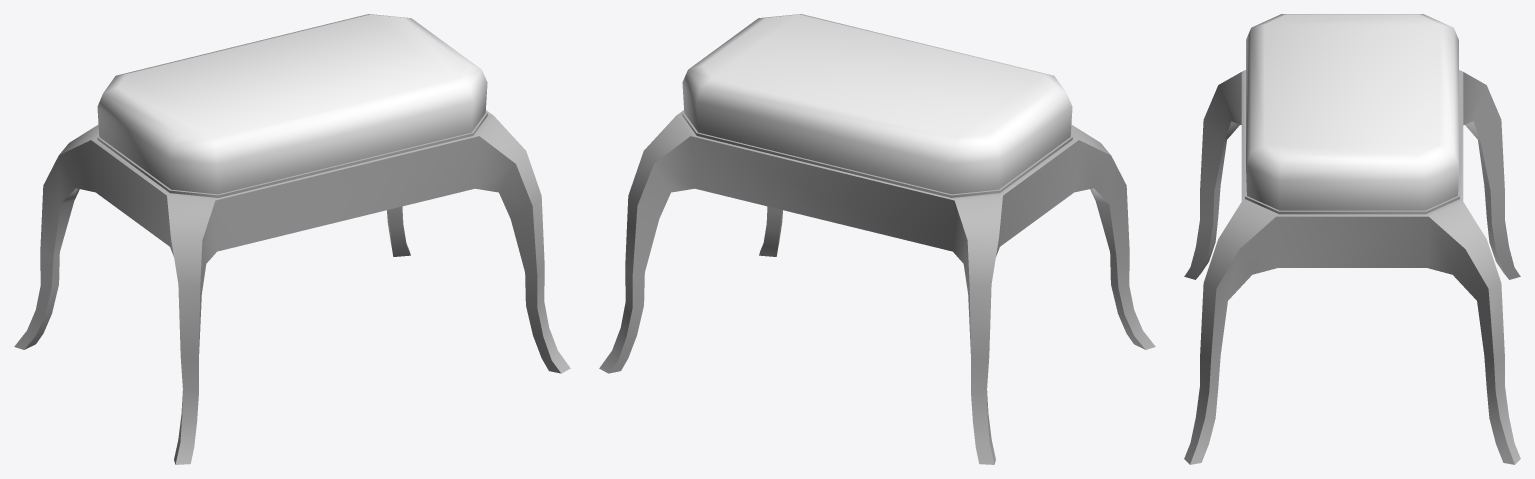
File: stool-4.fbx
The picture shows the model from 3 angles, left to right: view 1: azimuth 30°, elevation 25°; view 2: azimuth 150°, elevation 25°; view 3: azimuth 270°, elevation 25°; orthographic projection.
Parts seen in each view (by area): view 1: stool-4; view 2: stool-4; view 3: stool-4.
Boxes of the visible parts, x1=… form: stool-4: x1=14, y1=14, x2=570, y2=464; stool-4: x1=599, y1=14, x2=1155, y2=464; stool-4: x1=1184, y1=14, x2=1520, y2=464.
Bounding box in the file's own units: 80.65 × 54.83 × 59.09.
Materials: 2 (2 with a texture image).
